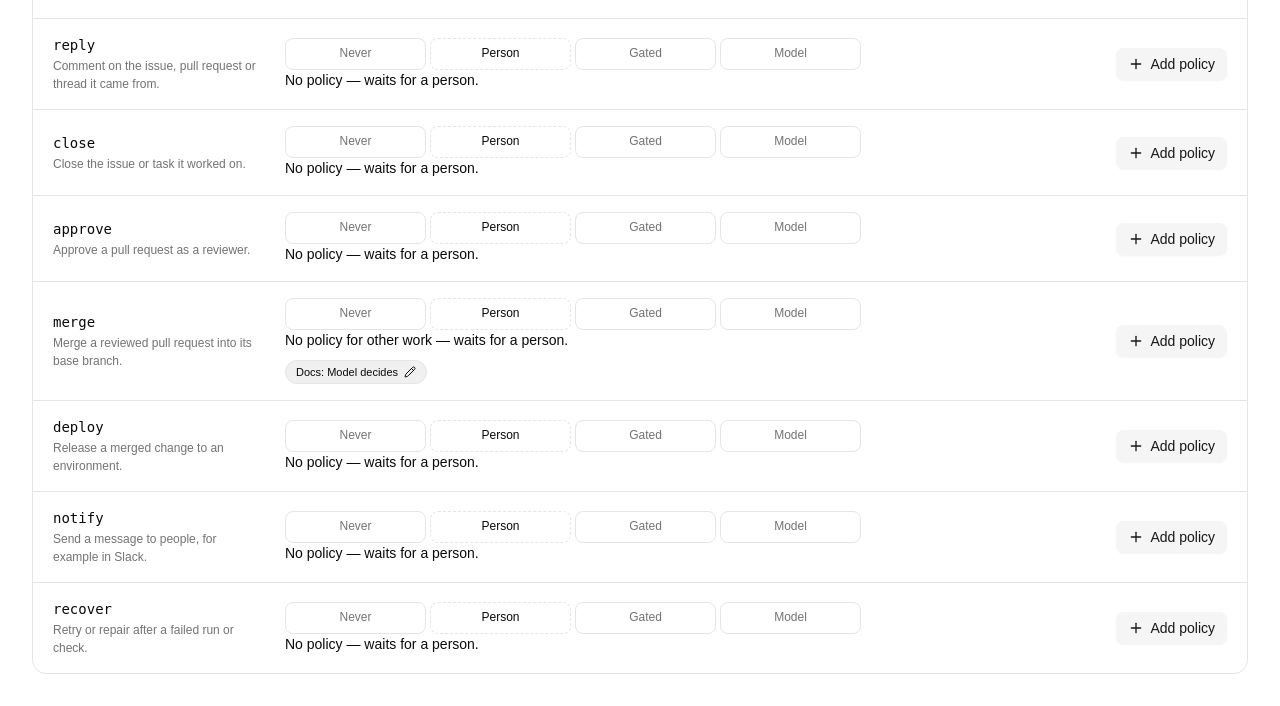
Test: FactoryPolicies › tells the user to reload on a version conflict
The width and height of the screenshot is (1280, 706).
(page scrolled)
Step 1. Click the button with aria-label "edit merge policy" → (356,372), box [285,360,427,384]
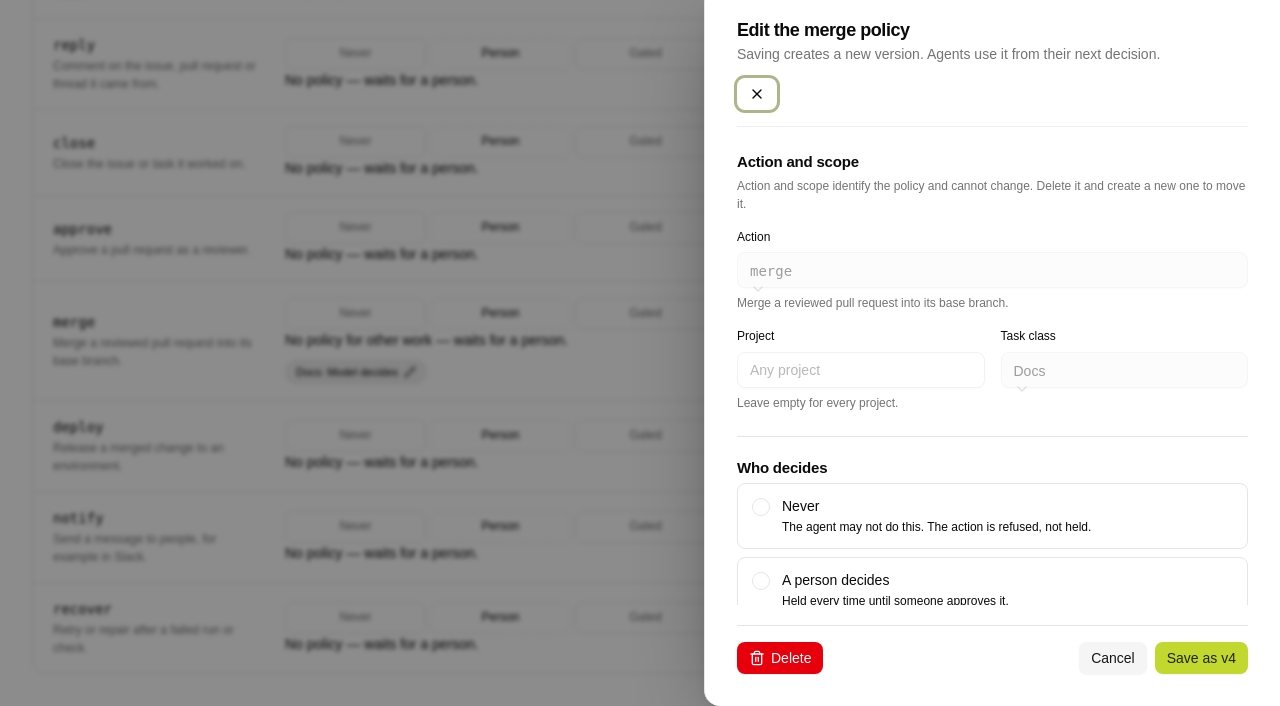
Step 2. Click the button "Save as v4" → (1201,658), box [1155,642,1248,674]
(page scrolled)
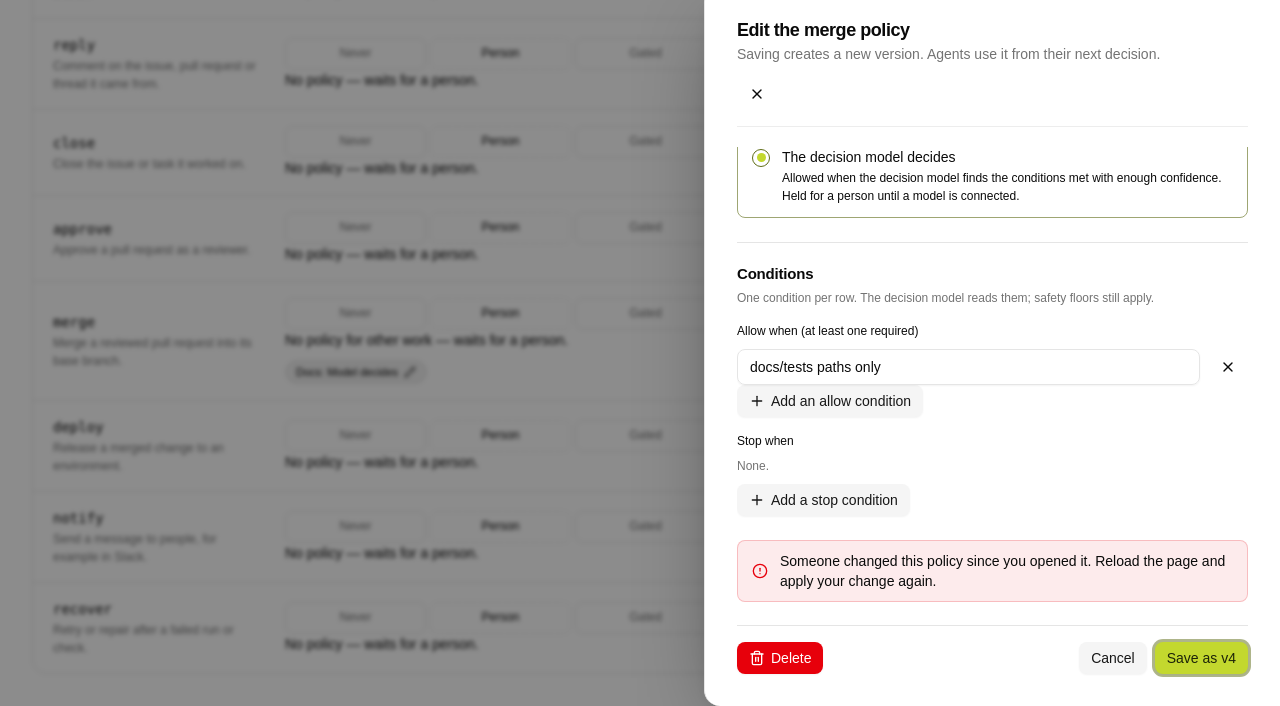
Now the text "Someone changed this policy" is shown, box [780,553,1225,589]
